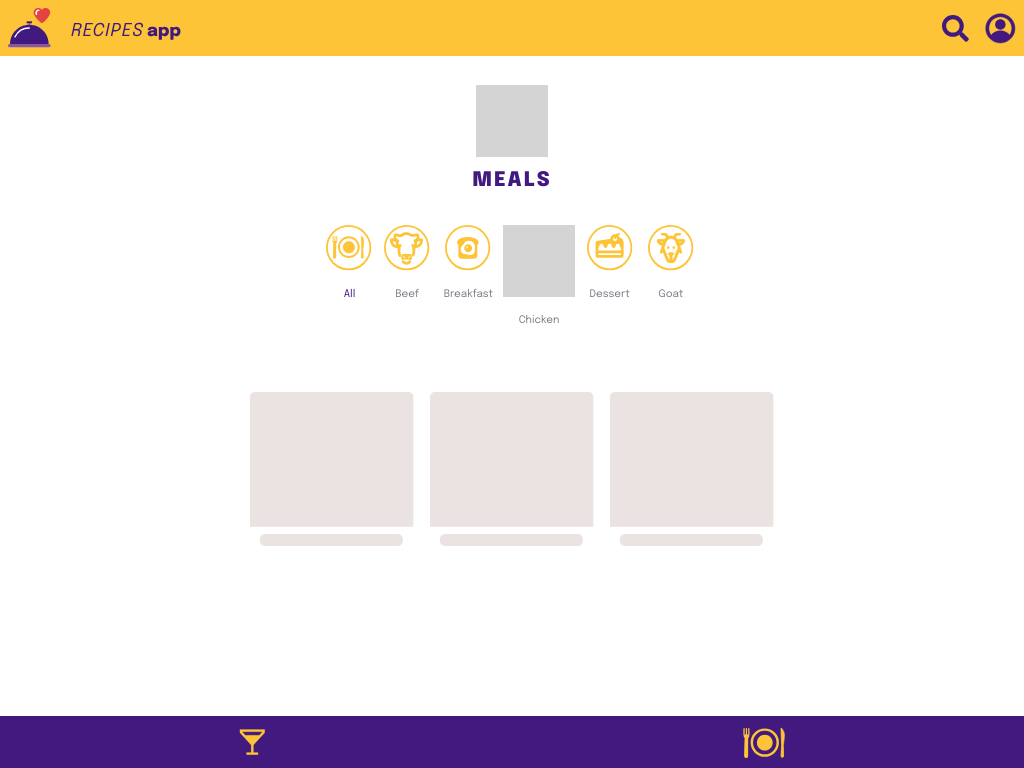
Test case: Testa os botões de categoria › verifica se ao clicar no botão Goat, os cards mudam
Click the button with test id "search-top-btn": (956, 28) [942, 14, 969, 42]
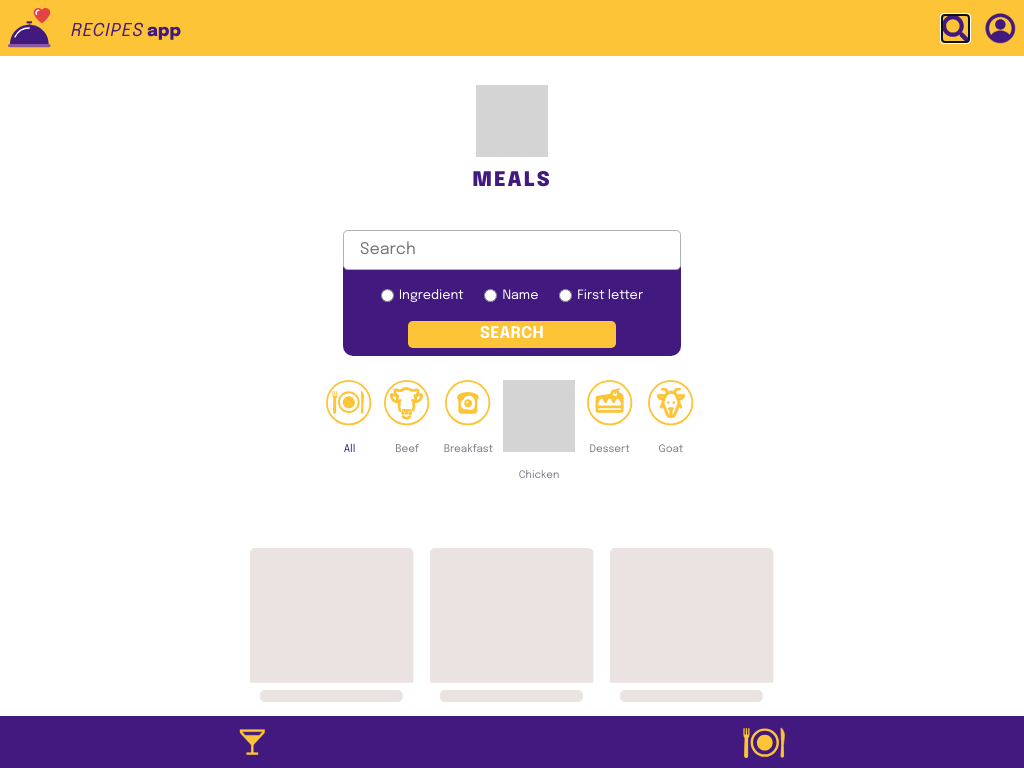
Click the button with test id "Goat-category-filter": (671, 432) [644, 380, 698, 484]
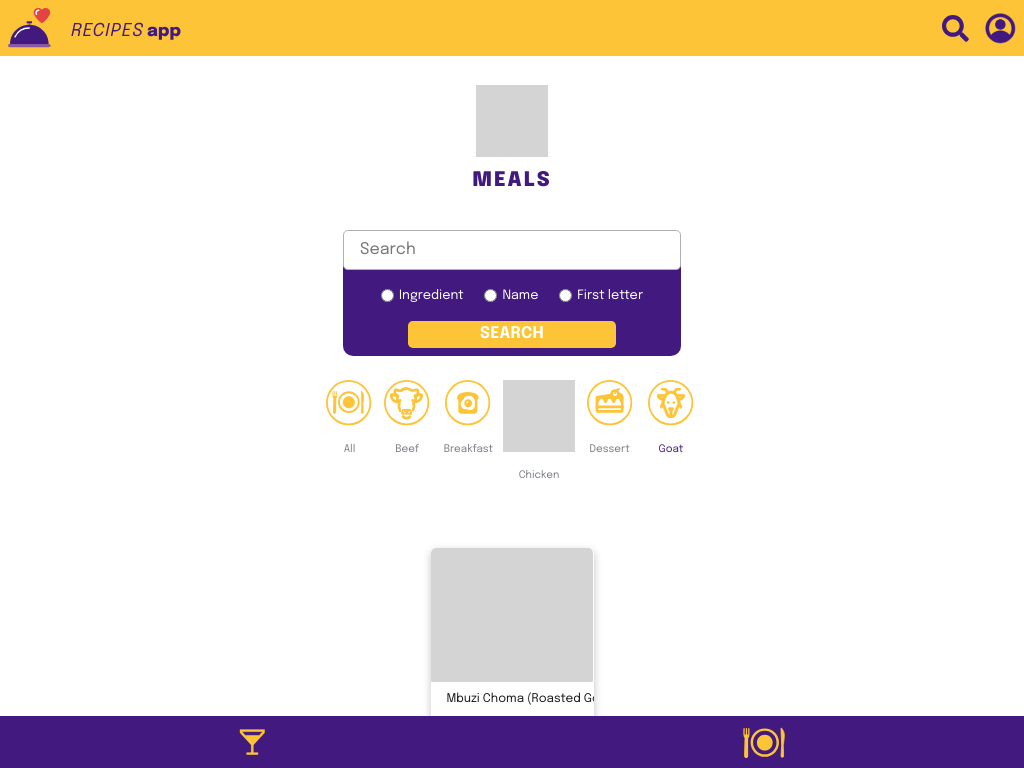
Expected: the text "Mbuzi Choma (Roasted Goat)" is shown, [430, 690, 594, 708]
